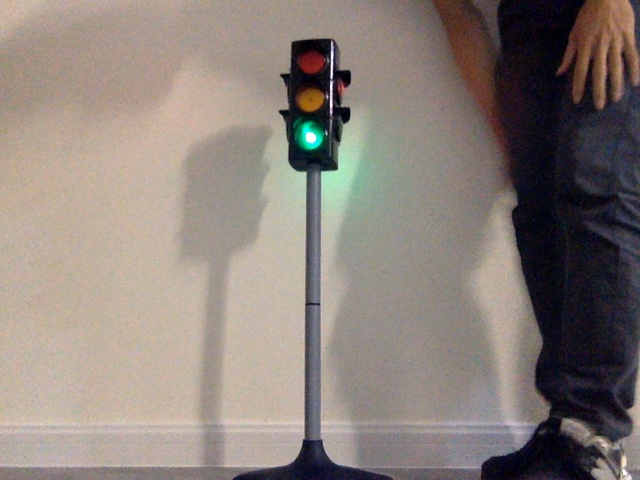green: (289, 45, 330, 155)
